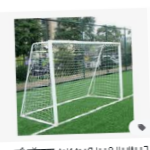goals: (20, 38, 125, 125)
